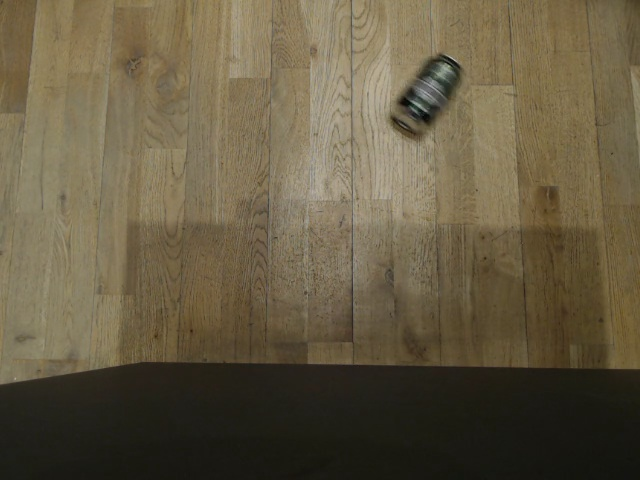beer: (386, 52, 467, 134)
